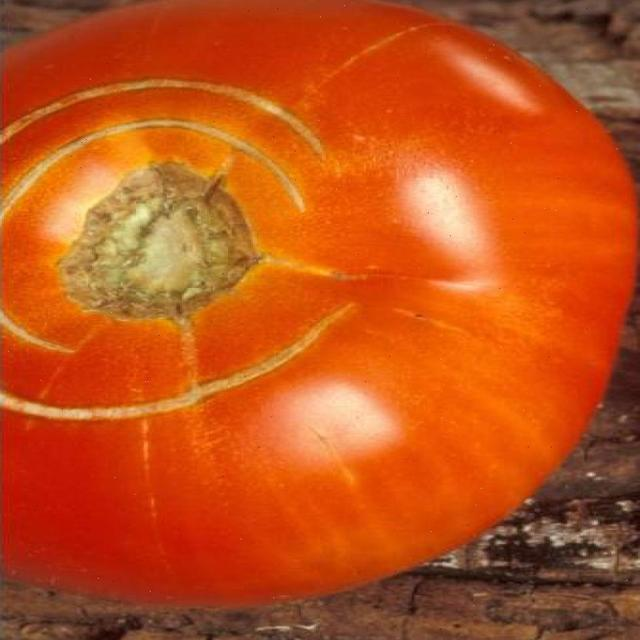Cracking Fruit: (33, 56, 245, 239)
